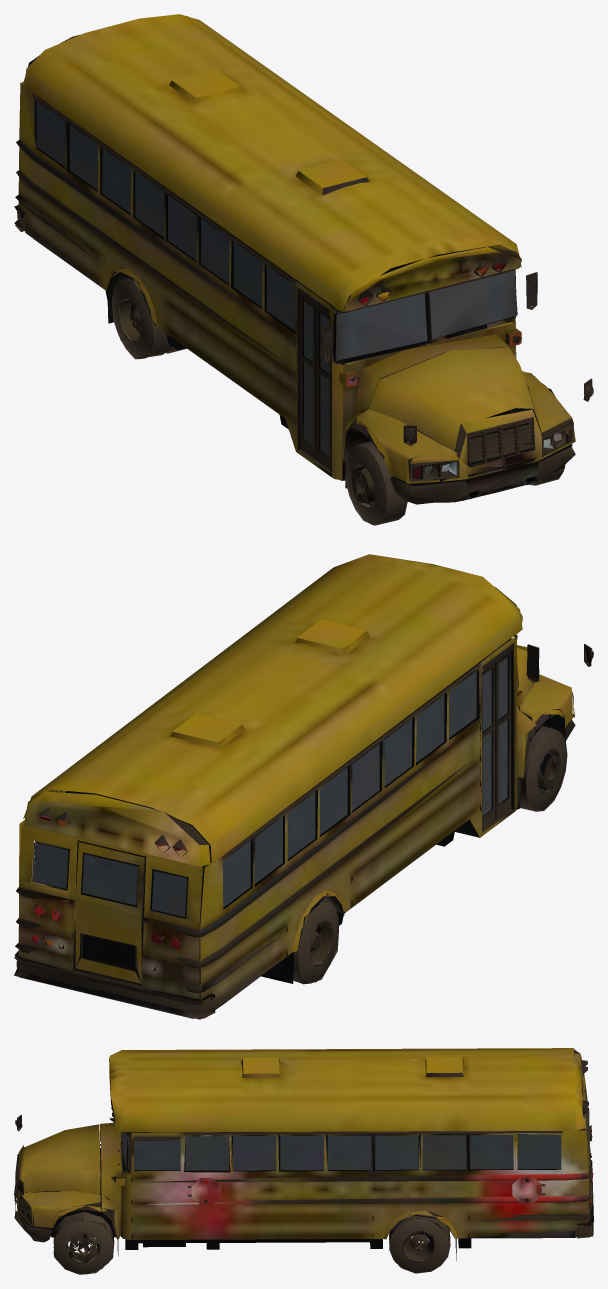
File: pack-school-bus-L2.glb
3 views of the same model, one above another, from view 1: azimuth 30°, elevation 25°; view 2: azimuth 150°, elevation 25°; view 3: azimuth 270°, elevation 25° (orthographic). The views are drawn at different scales.
Parts seen in each view (by area): view 1: body; view 2: body; view 3: body.
Boxes of the visible parts, x1,y1,x2,y2 form: body: (14, 14, 593, 525); body: (14, 554, 593, 1019); body: (14, 1048, 593, 1274).
Size of the model in its own units: 2.55 by 2.67 by 7.93.
1 material, 1 textured.
